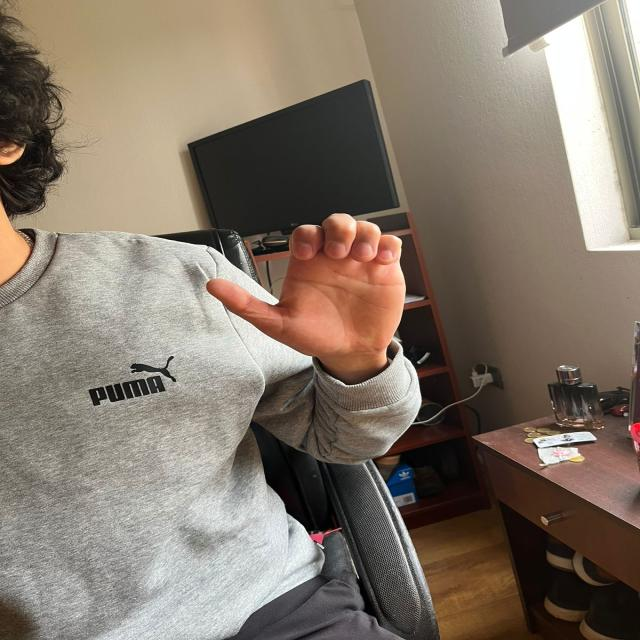E: (197, 209, 420, 364)
